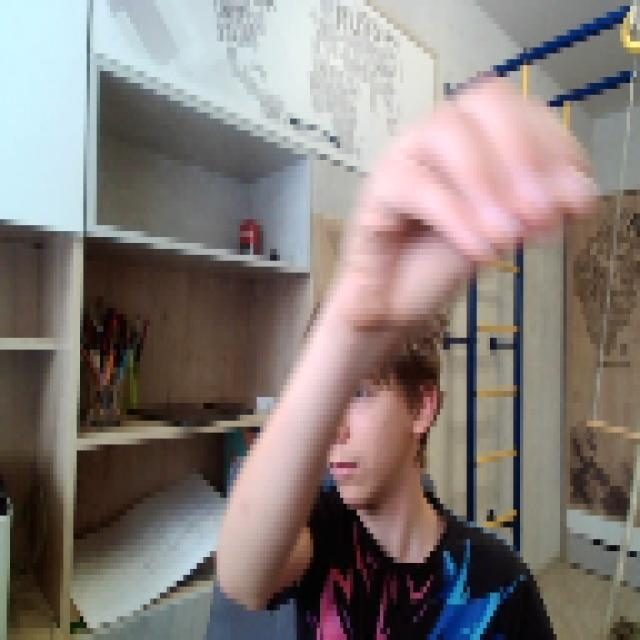left_click: (336, 71, 596, 314)
